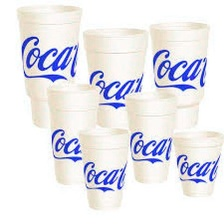paper_cup: (11, 0, 86, 131), (78, 21, 151, 132), (146, 16, 212, 132), (44, 79, 104, 189), (120, 86, 181, 188), (74, 123, 134, 214), (168, 123, 224, 202)
